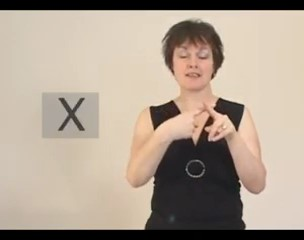X: (164, 98, 236, 146)
